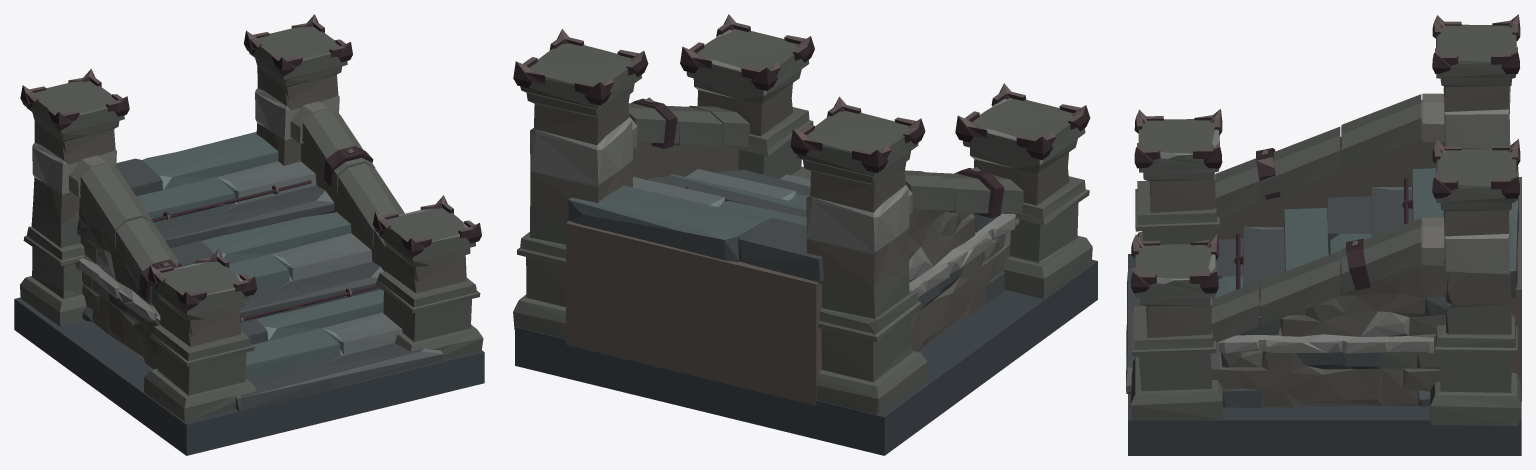
The model's file is MDungeons_Steps_MTrim.FBX.
The picture shows the model from 3 angles, left to right: view 1: azimuth 30°, elevation 25°; view 2: azimuth 150°, elevation 25°; view 3: azimuth 270°, elevation 25°; orthographic projection. The views are drawn at different scales.
Visible parts, largest first — view 1: MDungeons_Steps_MTrim_LOD0; view 2: MDungeons_Steps_MTrim_LOD0; view 3: MDungeons_Steps_MTrim_LOD0.
Boxes of the visible parts, bbox=[...] form: MDungeons_Steps_MTrim_LOD0: bbox=[14, 14, 484, 455]; MDungeons_Steps_MTrim_LOD0: bbox=[513, 14, 1097, 455]; MDungeons_Steps_MTrim_LOD0: bbox=[1126, 14, 1521, 455].
Size of what is drawn, in the model's own units: 6.03 by 4.67 by 6.
